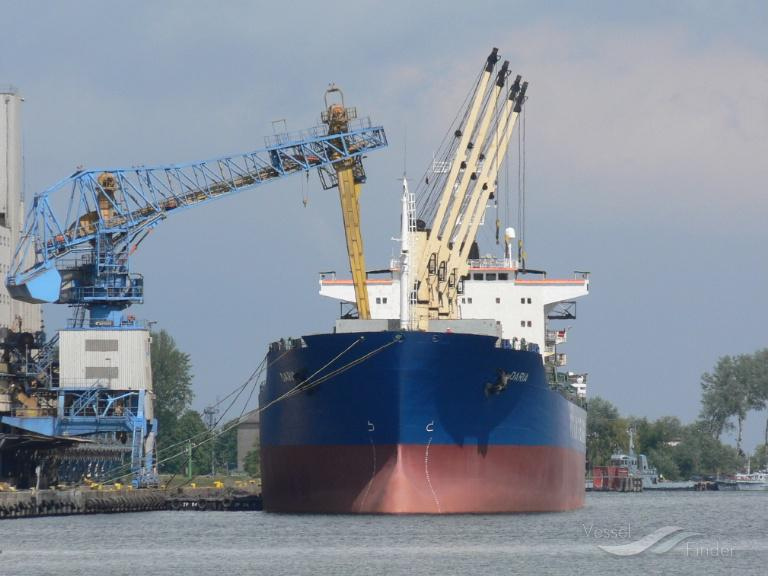OCR: (506, 365, 536, 388)
